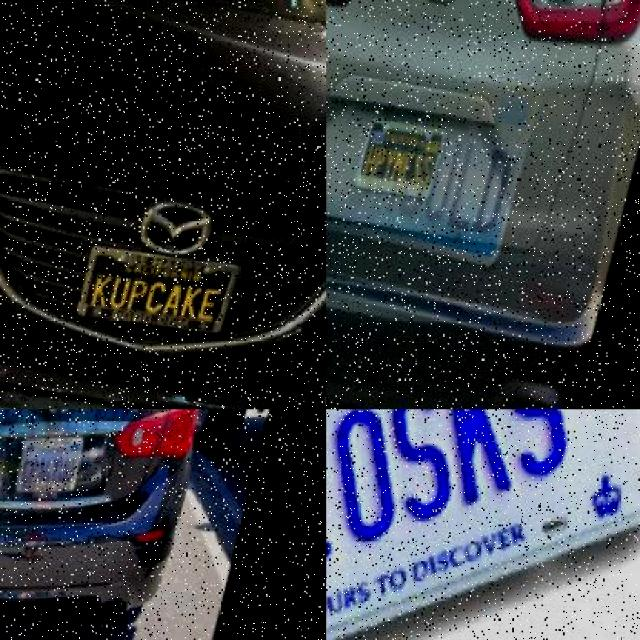licenseplate: (326, 409, 602, 640), (72, 251, 239, 342), (352, 117, 446, 211), (14, 428, 83, 504)
